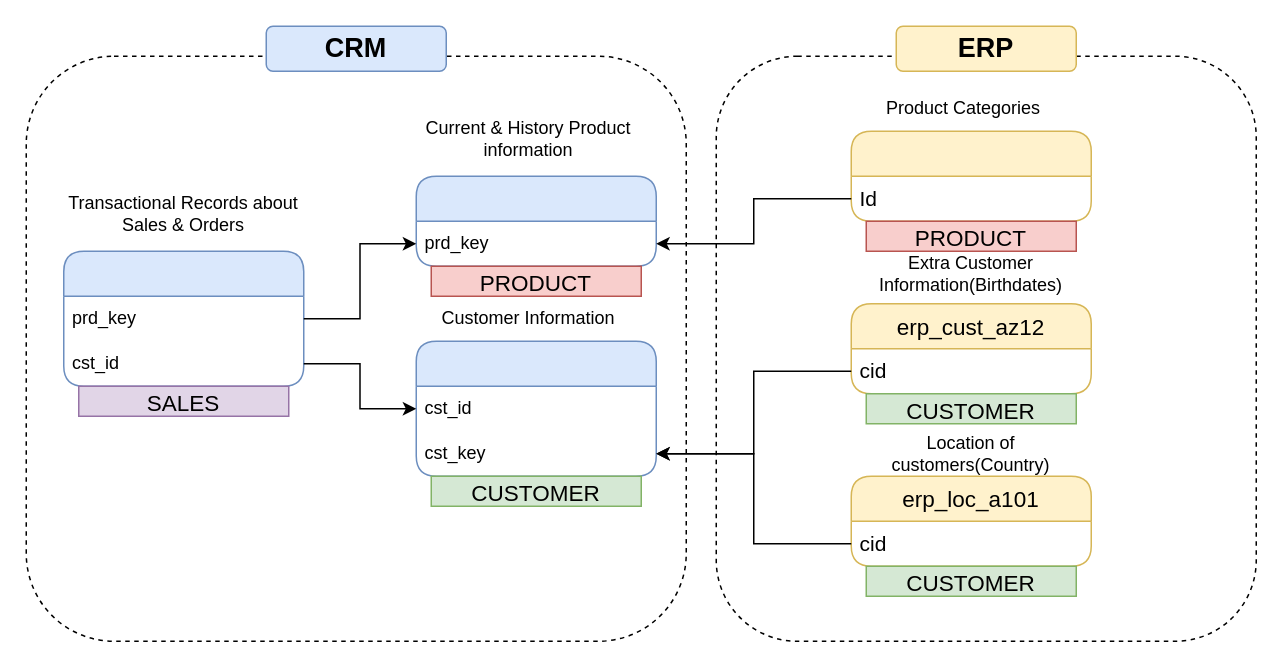
The diagram is 1283 pixels wide and 668 high, and some of its shapes have lost their labels. Each missing label, with the box of its shape:
crm_cust_info: (415, 340, 656, 476)
crm_prd_info: (415, 175, 656, 266)
crm_sales_details: (62, 250, 304, 386)
erp_px_cat_g1v2: (850, 130, 1091, 221)
